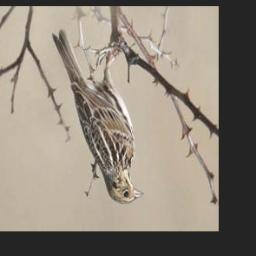Sparrow: (49, 24, 147, 209)
